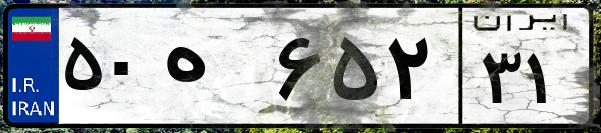0: (110, 28, 158, 98)
1: (525, 38, 570, 115)
2: (385, 28, 445, 110)
3: (475, 38, 525, 113)
5: (330, 28, 385, 110), (57, 26, 110, 100)
6: (270, 28, 330, 110)
ه: (158, 20, 270, 120)
